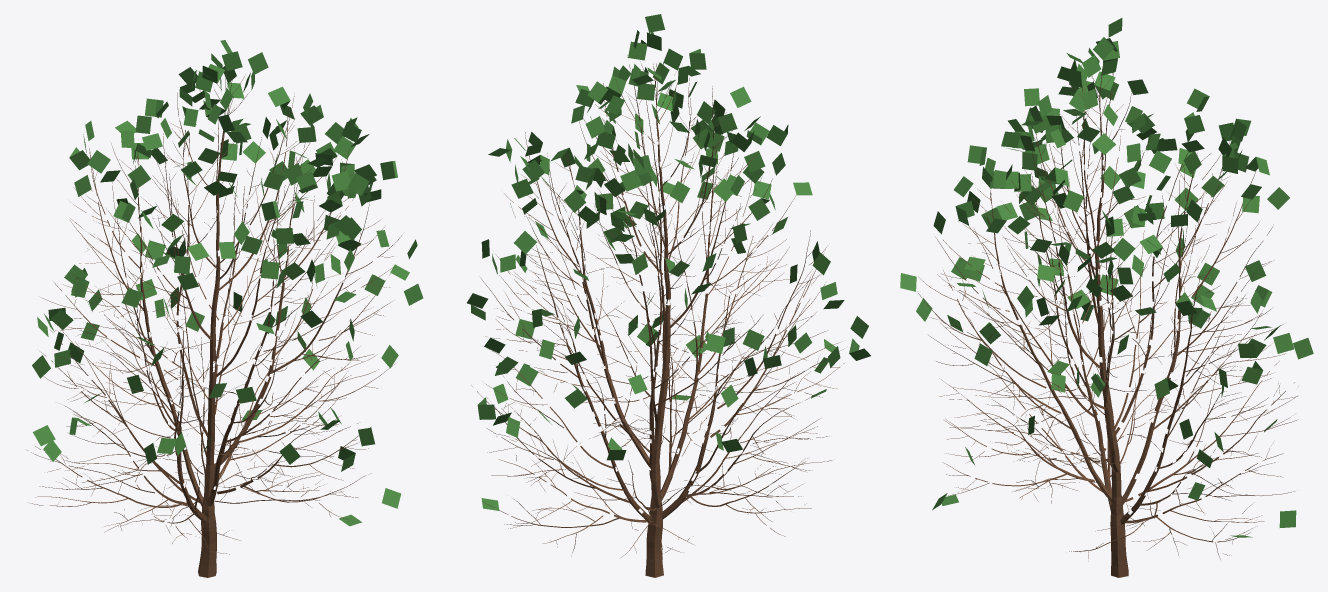
File: red_maple_hero.glb
3 views of the same model, side by side, from view 1: azimuth 30°, elevation 25°; view 2: azimuth 150°, elevation 25°; view 3: azimuth 270°, elevation 25° (orthographic).
Parts seen in each view (by area): view 1: foliage, trunk; view 2: foliage, trunk; view 3: foliage, trunk.
Part boxes in pixels (x1,y1,x2,y2): foliage: (32, 40, 423, 526); trunk: (27, 69, 401, 577); foliage: (467, 14, 870, 510); trunk: (471, 55, 844, 577); foliage: (900, 18, 1313, 537); trunk: (918, 65, 1297, 577).
Size of the model in its own units: 4.31 by 6 by 4.01.
